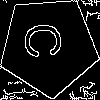C: (24, 21, 71, 60)
